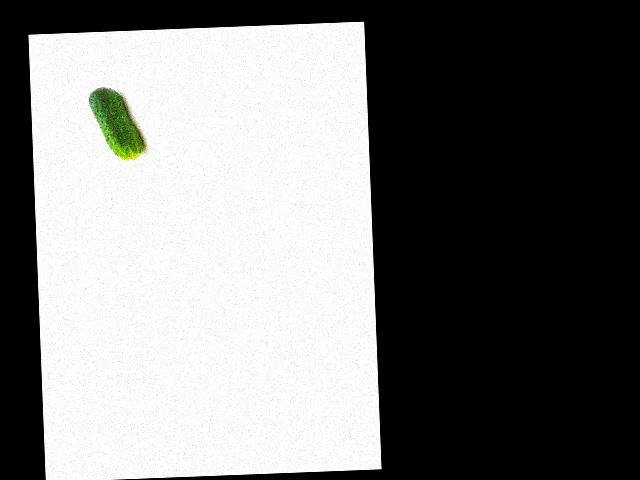cucumber: (88, 85, 143, 162)
